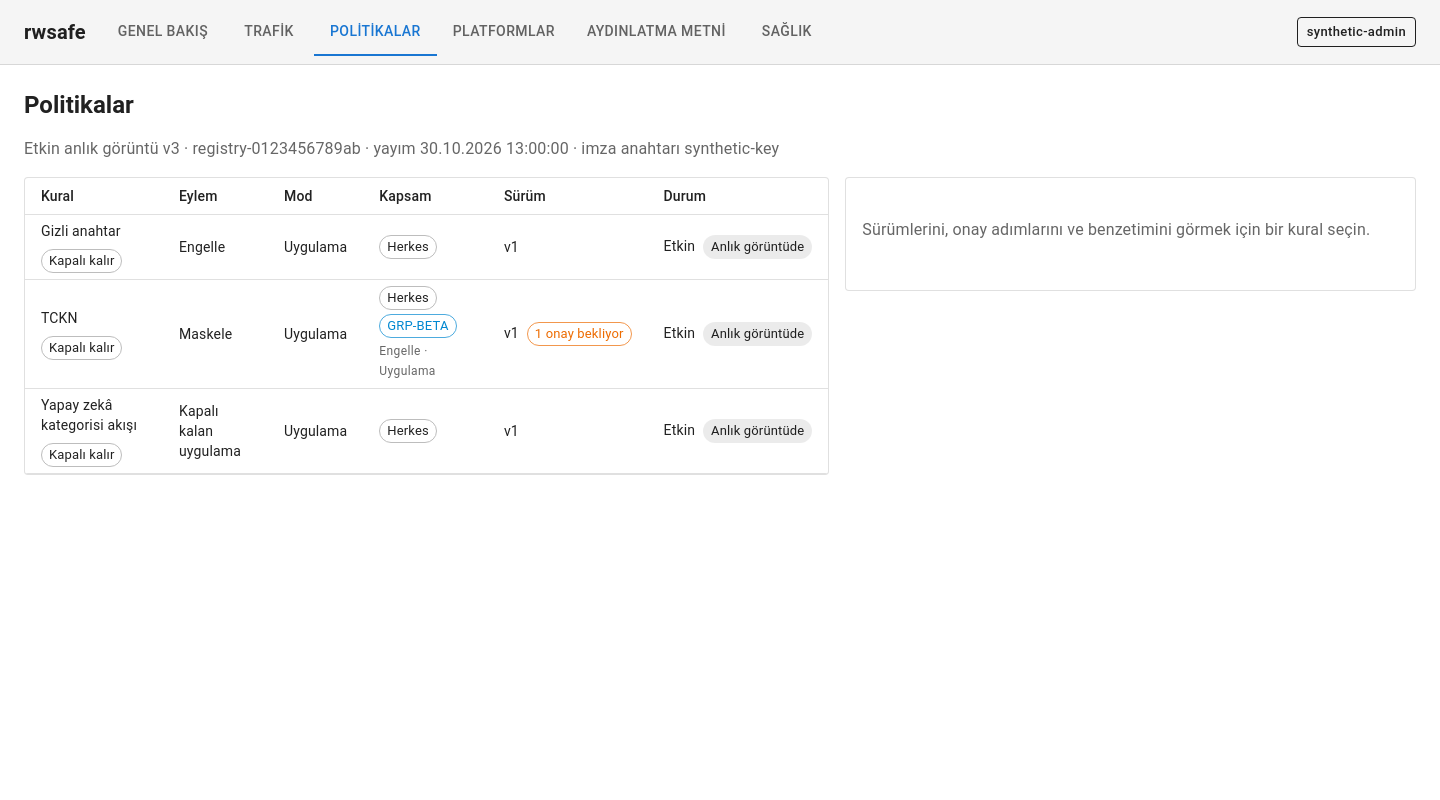
Scenario: policies screen › shows the server reason when an approval is refused
The image size is (1440, 800).
Click the text "TCKN".
click(82, 335)  # box 41,310 -> 122,360
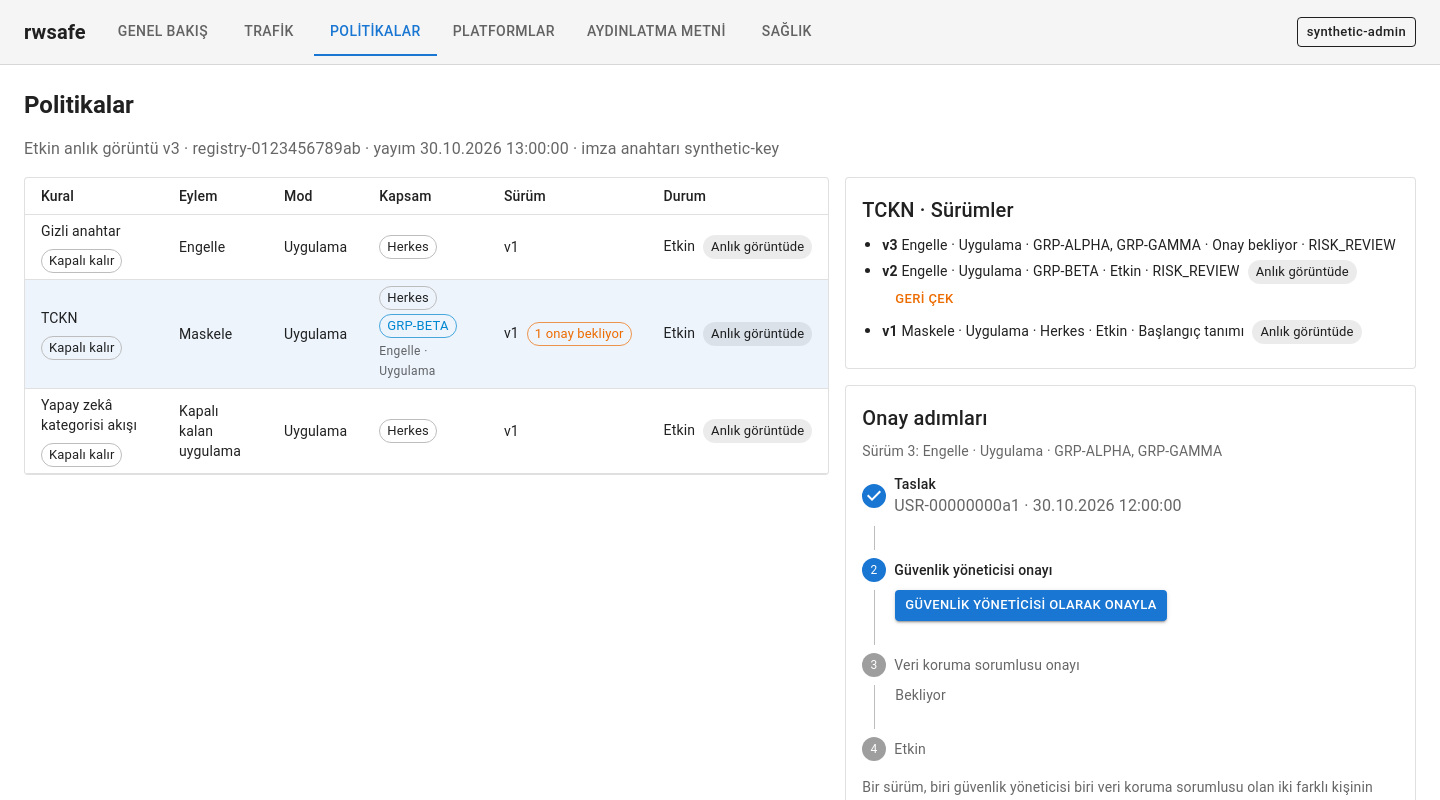
Click the button "Güvenlik yöneticisi olarak onayla".
click(1031, 606)  # box 895,590 -> 1167,621
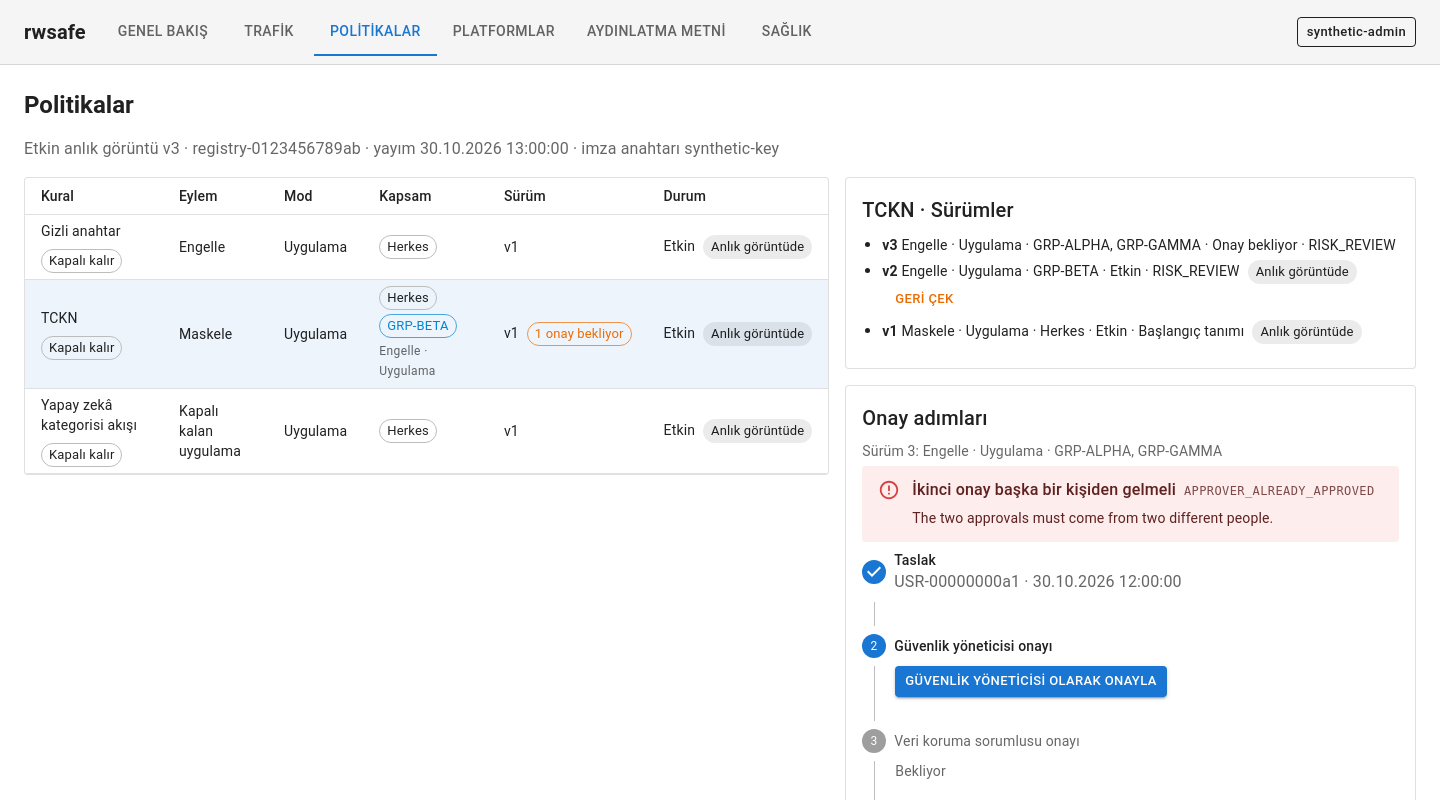
Expected: the message shows "İkinci onay başka bir kişiden gelmeli", 912,480 -> 1176,499
Expected: the message shows "APPROVER_ALREADY_APPROVED", 1184,484 -> 1375,498
